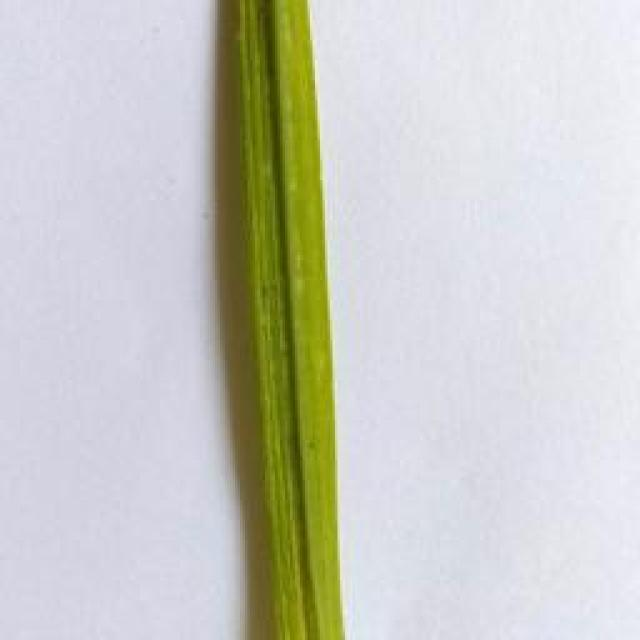Healthy-Plant: (228, 0, 368, 640)
